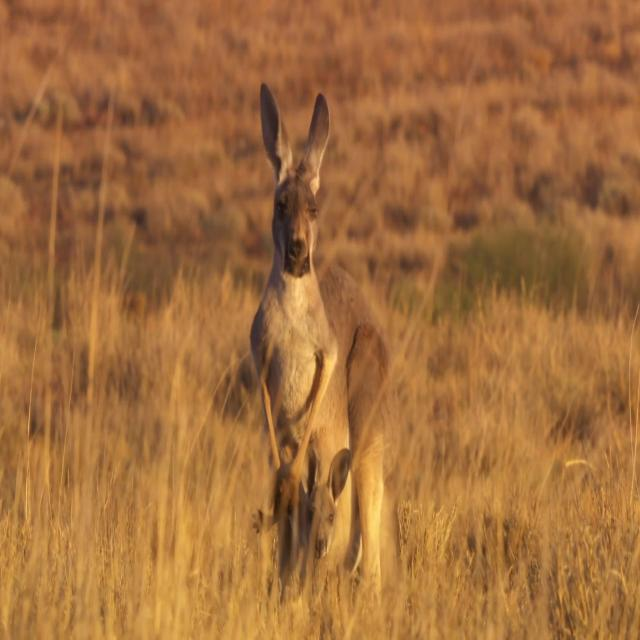Kangaroo: (225, 64, 397, 602)
